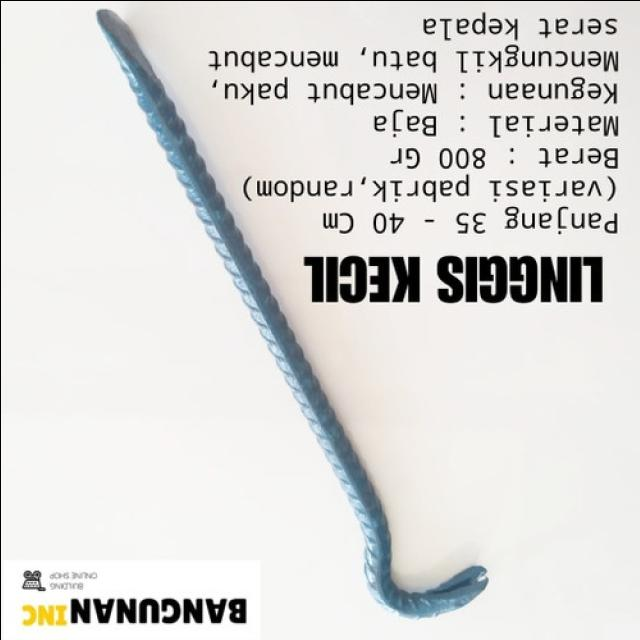Linggis: (95, 8, 489, 621)
